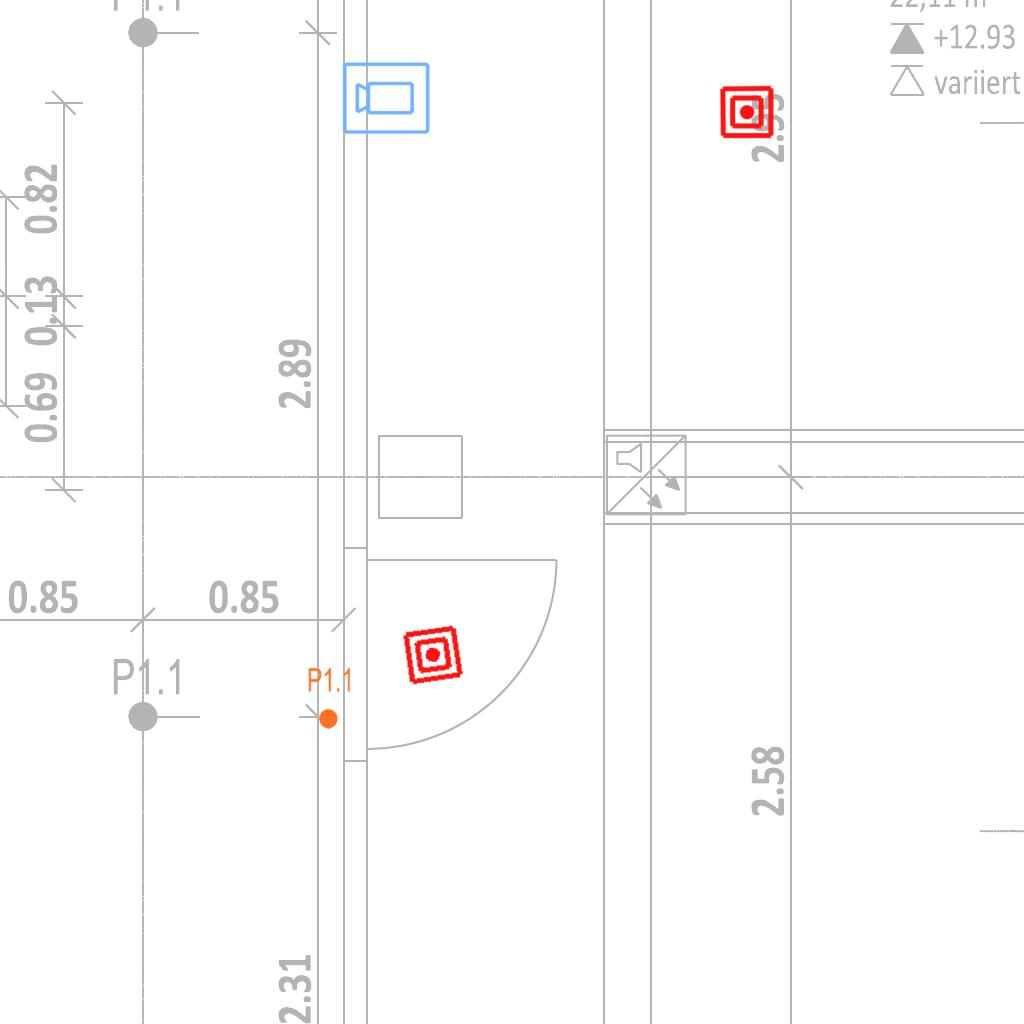Downlight_LED_Einbauleuchten_Flur: (307, 666, 353, 730)
KFO_Kamera_mit_Festobjektiv: (341, 59, 432, 136)
NAM-Nichtautomatischer_Melder: (401, 623, 465, 687), (719, 84, 775, 140)
